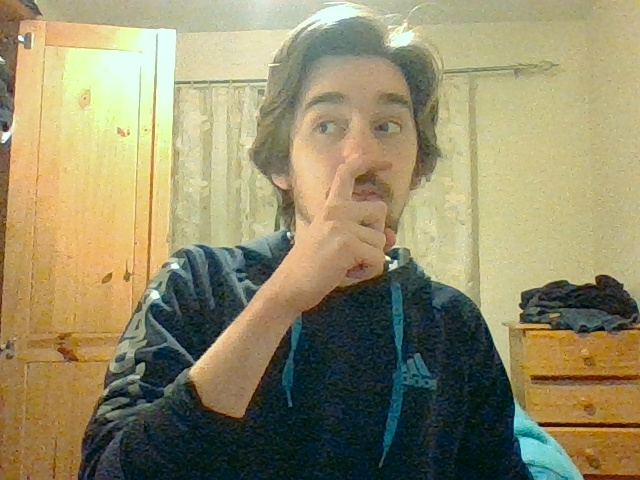sister: (326, 154, 397, 278)
